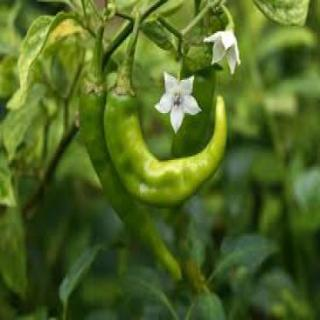green_chilli: (71, 71, 184, 289), (104, 72, 231, 212)
